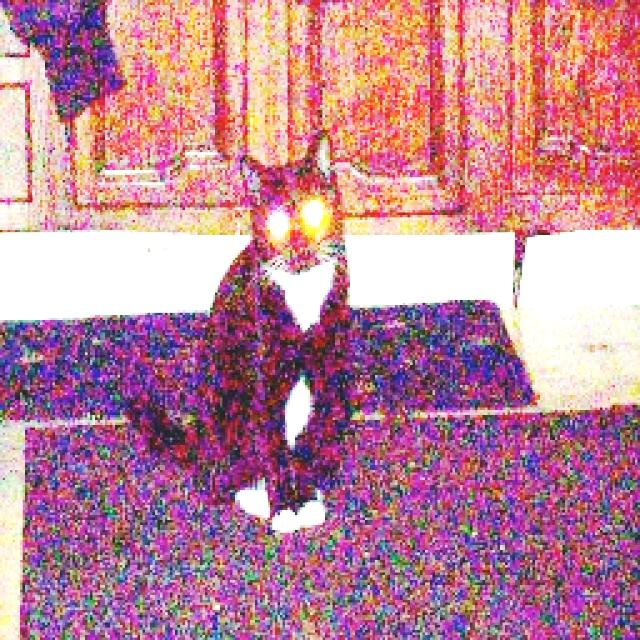cat: (110, 122, 390, 567)
